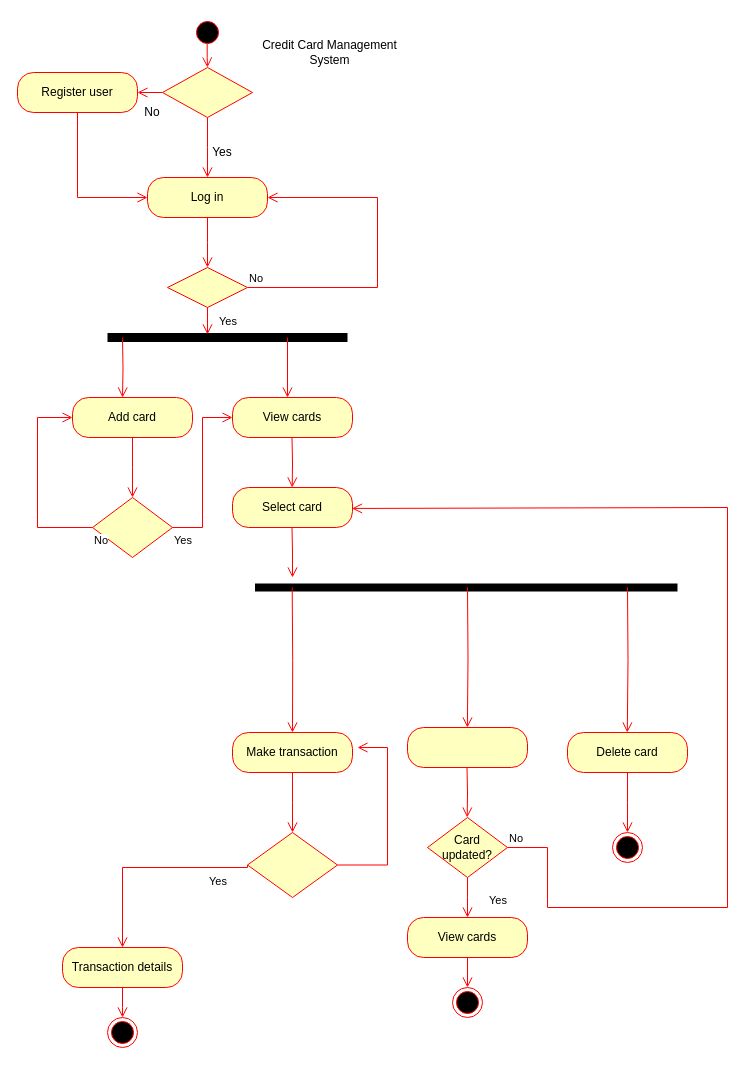
Some shapes in this 755 by 1065 pixel diagram are drawn without their labels. Here are the shapes that lost their labels. From the top down, the centre of each, then its label:
At point (207, 92): "User exists?".
At point (207, 287): "Logged in?".
At point (132, 527): "Card added?".
At point (467, 747): "Update card".
At point (292, 865): "Transaction approved?".
